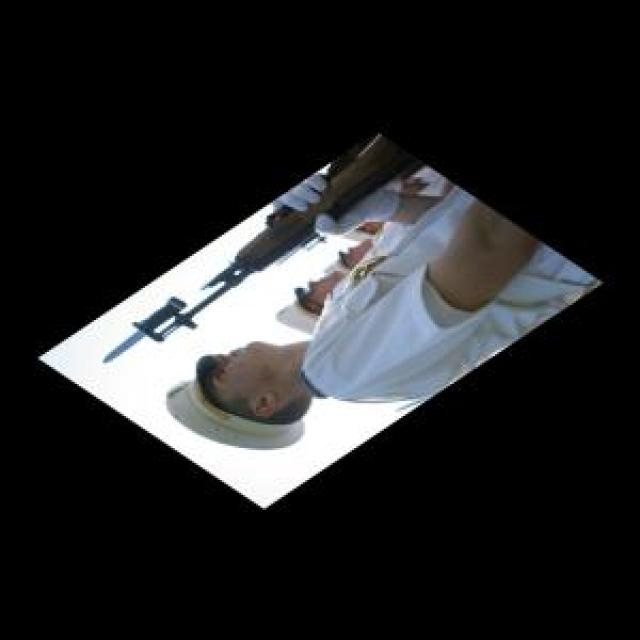knife: (90, 294, 186, 368)
